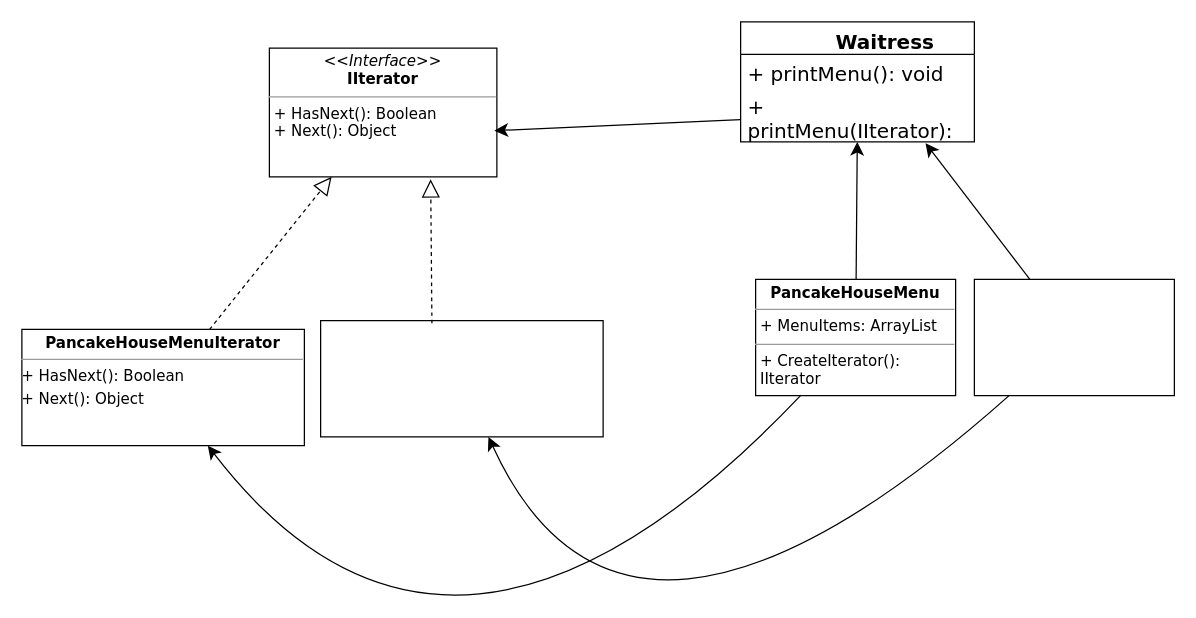
Image size: 1196x618. Some labels were removed from this diagram. Each missing label, with the box of its shape:
DinerMenu + MenuItems: Array + CreateIterator(): IIterator: (973, 278, 1174, 396)
DinerMenuIterator + HasNext(): Boolean + Next(): Object: (319, 319, 603, 437)
